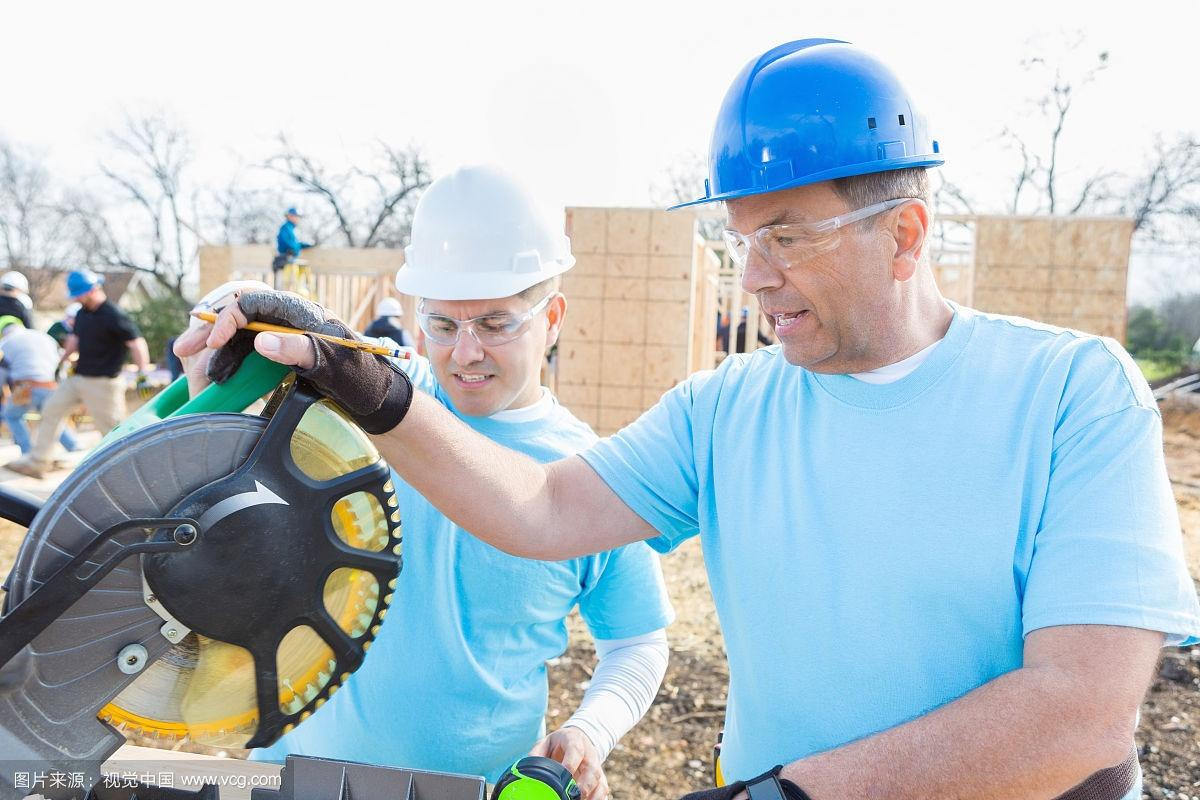Helmet: (700, 39, 949, 342), (400, 164, 573, 392)
